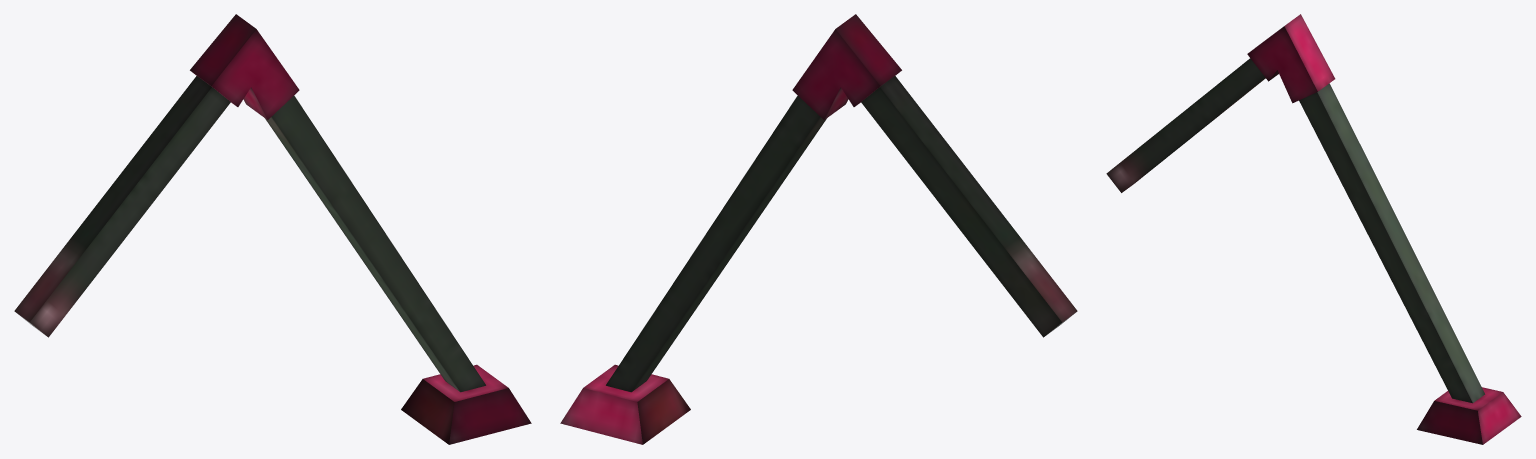
The model's file is bugmidleft.obj.
The picture shows the model from 3 angles, left to right: view 1: azimuth 30°, elevation 25°; view 2: azimuth 150°, elevation 25°; view 3: azimuth 330°, elevation 25°; orthographic projection. The views are drawn at different scales.
Parts seen in each view (by area): view 1: Object009; view 2: Object009; view 3: Object009.
Part boxes in pixels (x1,y1,x2,y2): Object009: [14, 14, 531, 444]; Object009: [560, 14, 1077, 444]; Object009: [1106, 14, 1521, 444].
Size of the model in its own units: 27.27 by 24.11 by 4.69.
1 material, 1 textured.
